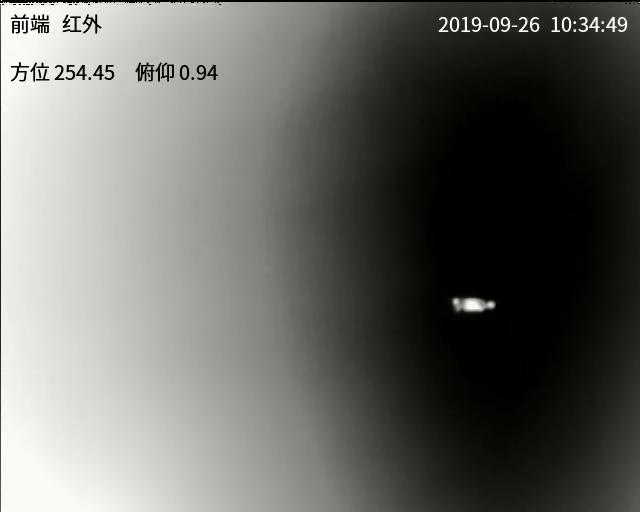uav: (448, 292, 499, 316)
